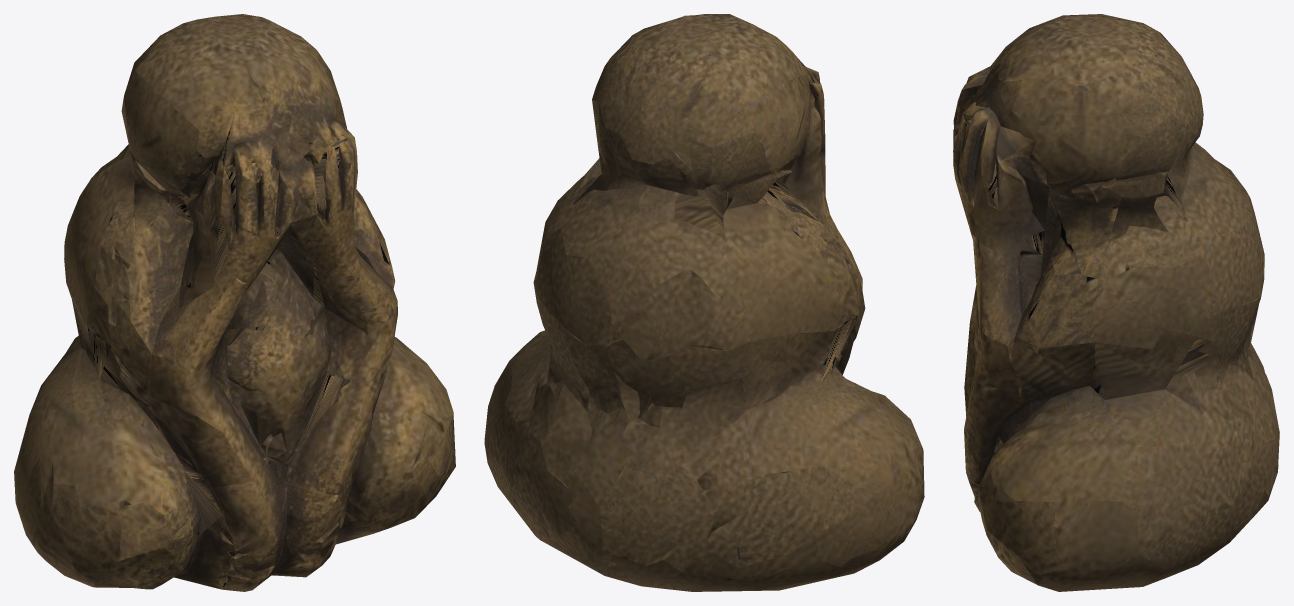
File: e4pidta.glb
3 renders of one model, left to right at view 1: azimuth 30°, elevation 25°; view 2: azimuth 150°, elevation 25°; view 3: azimuth 270°, elevation 25°, orthographic. The views are drawn at different scales.
Visible parts, largest first — view 1: e4pidta_near, e4pidta_far; view 2: e4pidta_near, e4pidta_far; view 3: e4pidta_near, e4pidta_far.
Part boxes in pixels (left/top/right/bottom): e4pidta_near: left=14, top=14, right=455, bottom=591; e4pidta_far: left=68, top=46, right=423, bottom=589; e4pidta_near: left=484, top=14, right=924, bottom=591; e4pidta_far: left=531, top=25, right=870, bottom=553; e4pidta_near: left=953, top=14, right=1279, bottom=591; e4pidta_far: left=956, top=48, right=1263, bottom=489.
Size of the model in its own units: 0.0241 by 0.03 by 0.0173.
Materials: 1 (1 with a texture image).
